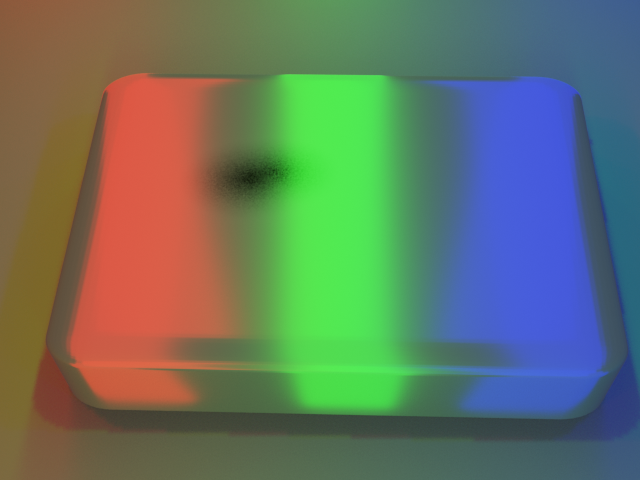stain: (136, 117, 345, 231)
